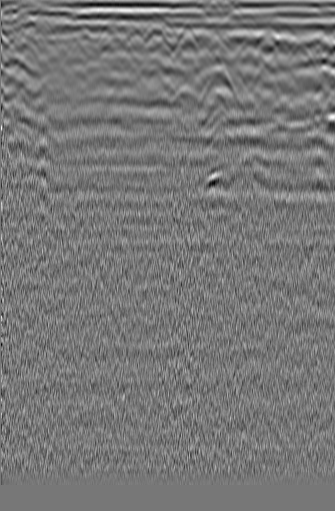가스: (195, 166, 232, 200)
상수: (8, 37, 45, 61)
우수: (147, 32, 177, 63)
